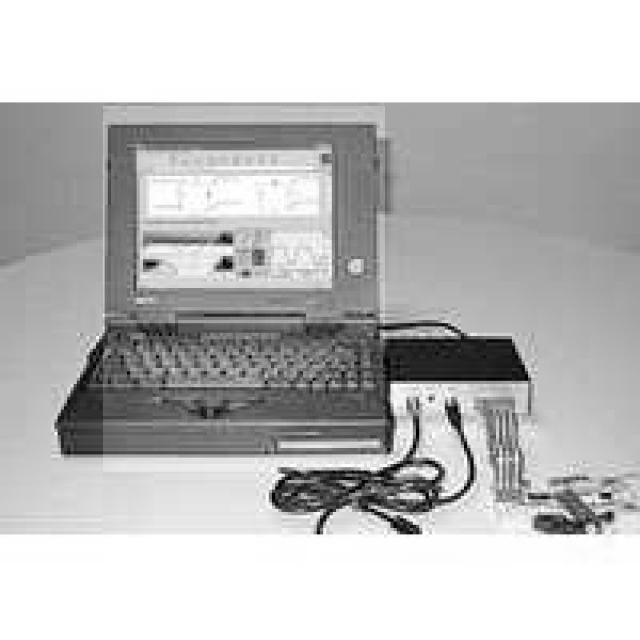-keyboard-: (104, 106, 386, 472)
